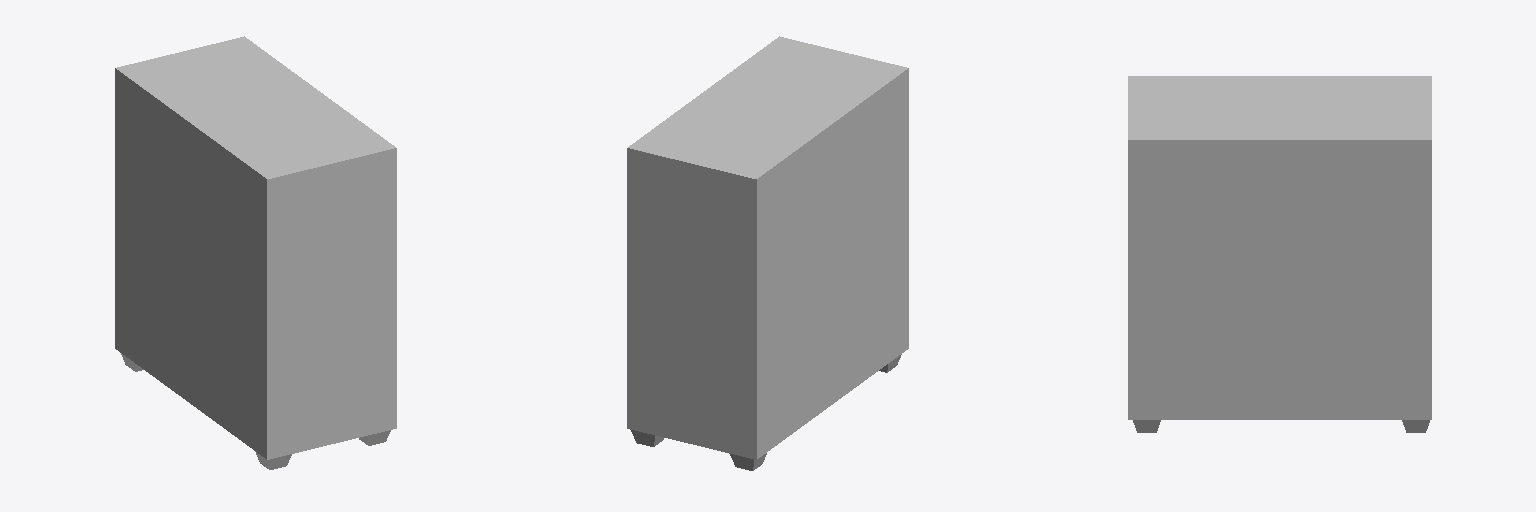
Rendered from uploads_files_2568568_NZXT+H500I.obj.
3 renders of one model, left to right at view 1: azimuth 30°, elevation 25°; view 2: azimuth 150°, elevation 25°; view 3: azimuth 270°, elevation 25°, orthographic.
Parts seen in each view (by area): view 1: Cube.002; view 2: Cube.002; view 3: Cube.002.
Boxes of the visible parts, x1,y1,x2,y2 form: Cube.002: [115, 36, 396, 469]; Cube.002: [627, 36, 908, 470]; Cube.002: [1128, 76, 1431, 432].
Bounding box in the file's own units: 0.21 × 0.459 × 0.428.